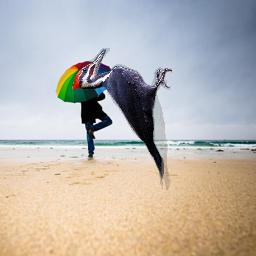Woodpecker: (72, 48, 172, 190)
